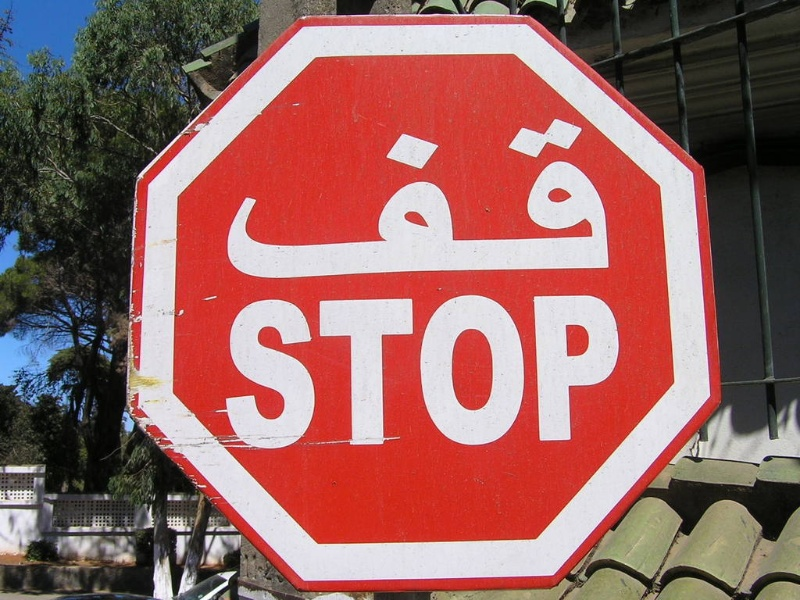stop: (118, 29, 720, 574)
